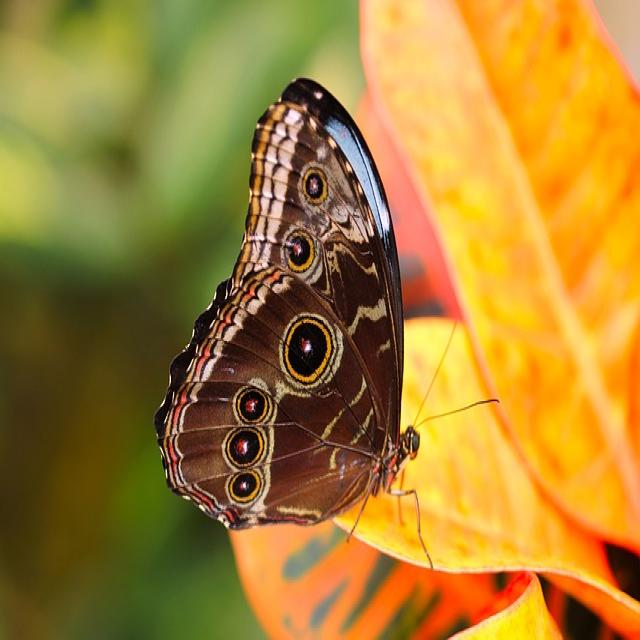butterfly: (155, 79, 419, 529)
